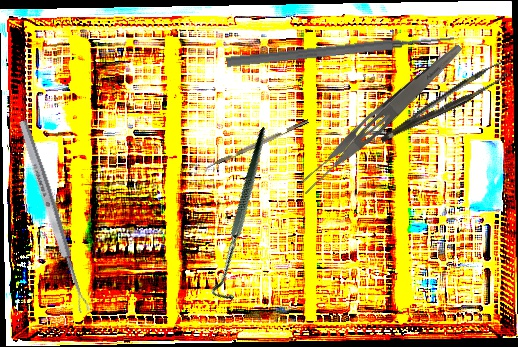Chopper: (200, 119, 312, 176)
Dressing Forceps: (293, 36, 467, 199)
Hook Surgical: (156, 126, 334, 307)
Pusher: (225, 31, 456, 70)
Surgical Spoon: (16, 118, 91, 315)
Tissue Forceps: (372, 61, 512, 143)
